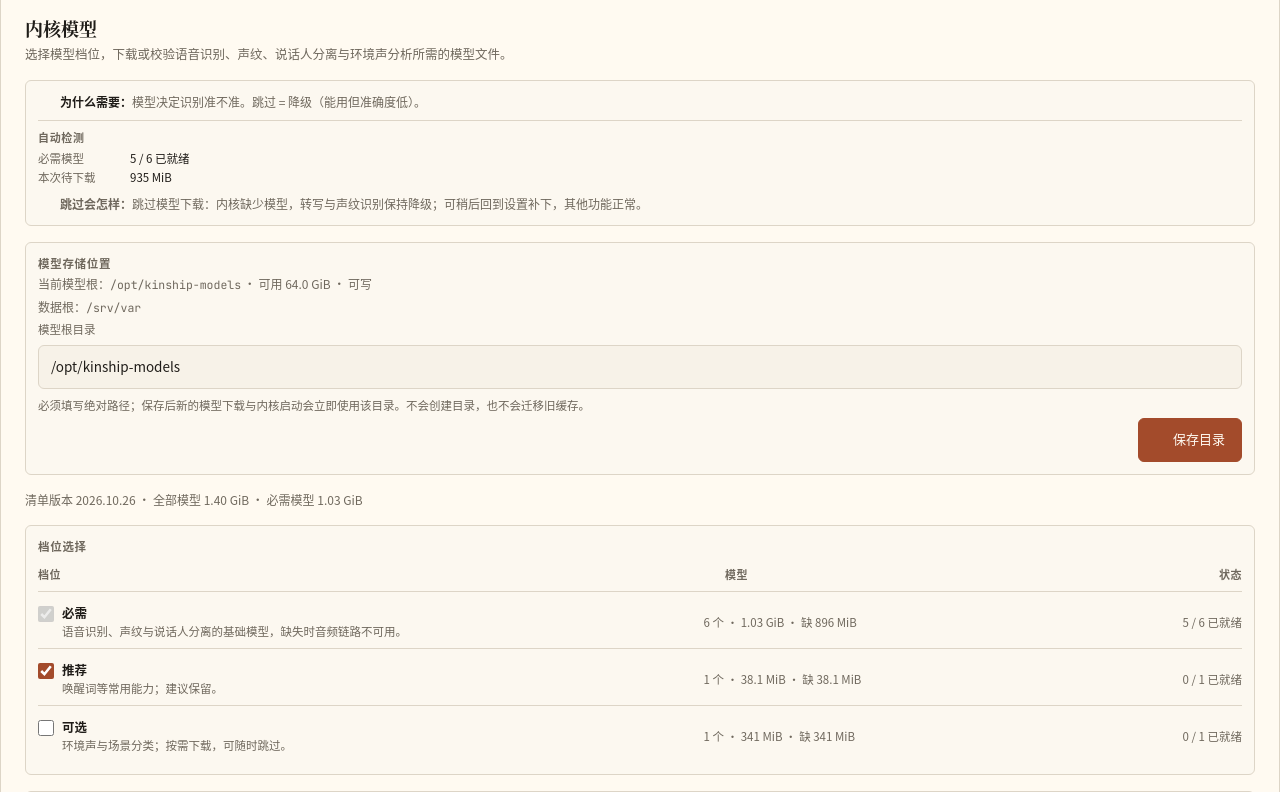
KernelModelsStep › reveals the gated reason when the optional tier is selected and never fakes readiness
Click the checkbox labelled "可选 环境声与场景分类；按需下载，可随时跳过。" at x=46, y=728, box left=38, top=720, right=54, bottom=736
(page scrolled)
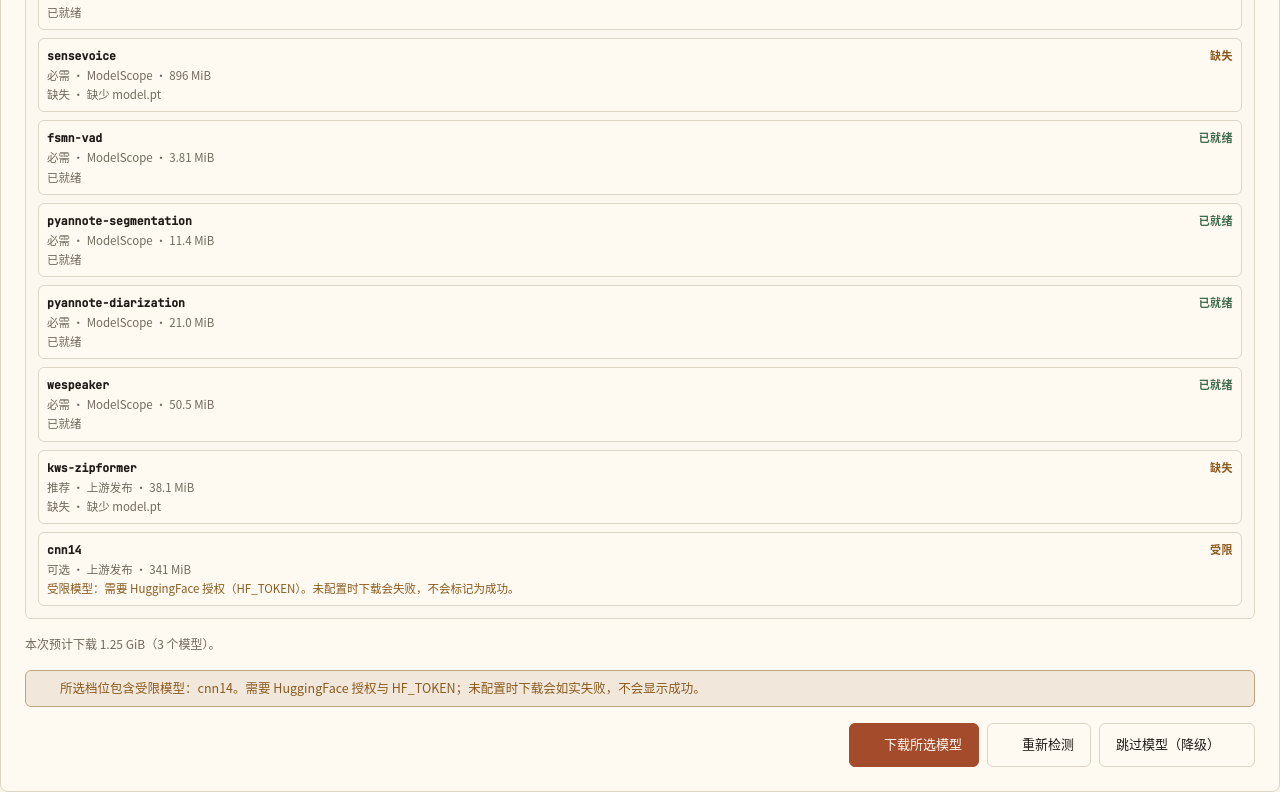
Expected: the text "受限模型：需要 HuggingFace 授权（HF_TOKEN）。未配置时下载会失败，不会标记为成功。" is shown, left=47, top=580, right=520, bottom=596
Result: the text "cnn14" is shown at left=60, top=678, right=706, bottom=697
Result: the text "HF_TOKEN" is shown at left=60, top=678, right=706, bottom=697
